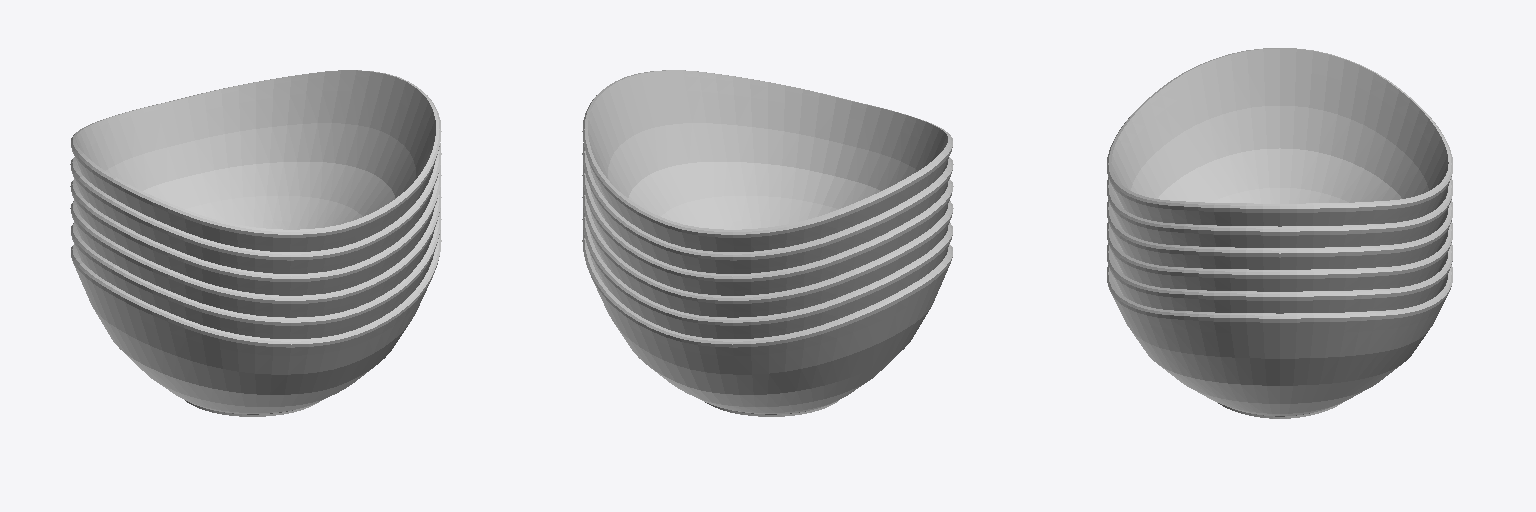
File: BowlsDesignerSet002.obj
3 views of the same model, side by side, from view 1: azimuth 30°, elevation 25°; view 2: azimuth 150°, elevation 25°; view 3: azimuth 270°, elevation 25° (orthographic).
Parts seen in each view (by area): view 1: BowlsDesignerSet001; view 2: BowlsDesignerSet001; view 3: BowlsDesignerSet001.
Part boxes in pixels (x1,y1,x2,y2): BowlsDesignerSet001: (70,70,441,416); BowlsDesignerSet001: (582,70,953,416); BowlsDesignerSet001: (1107,48,1452,418).
Size of the model in its own units: 0.1507 by 0.1139 by 0.138.